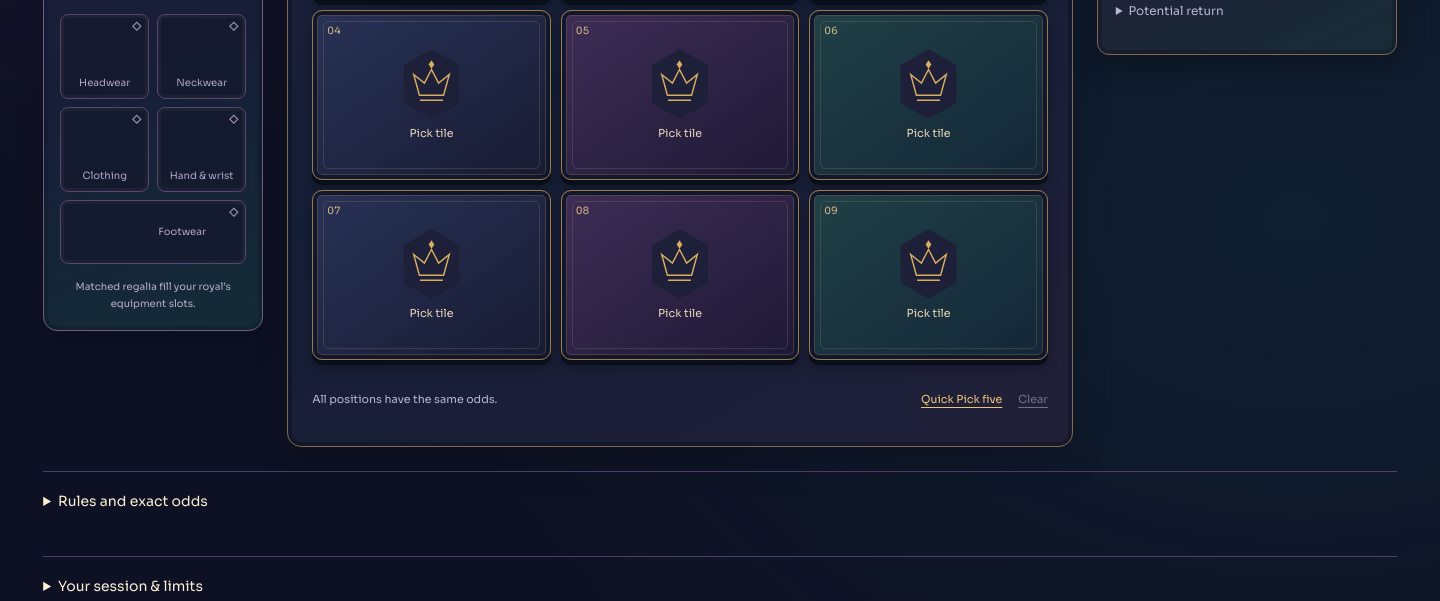
HeritageGameFlow › requires exactly five positions and Quick Pick returns five without changing the odds
(page scrolled)
Click the button "Quick Pick five": (962, 399) [921, 377, 1002, 421]
(page scrolled)
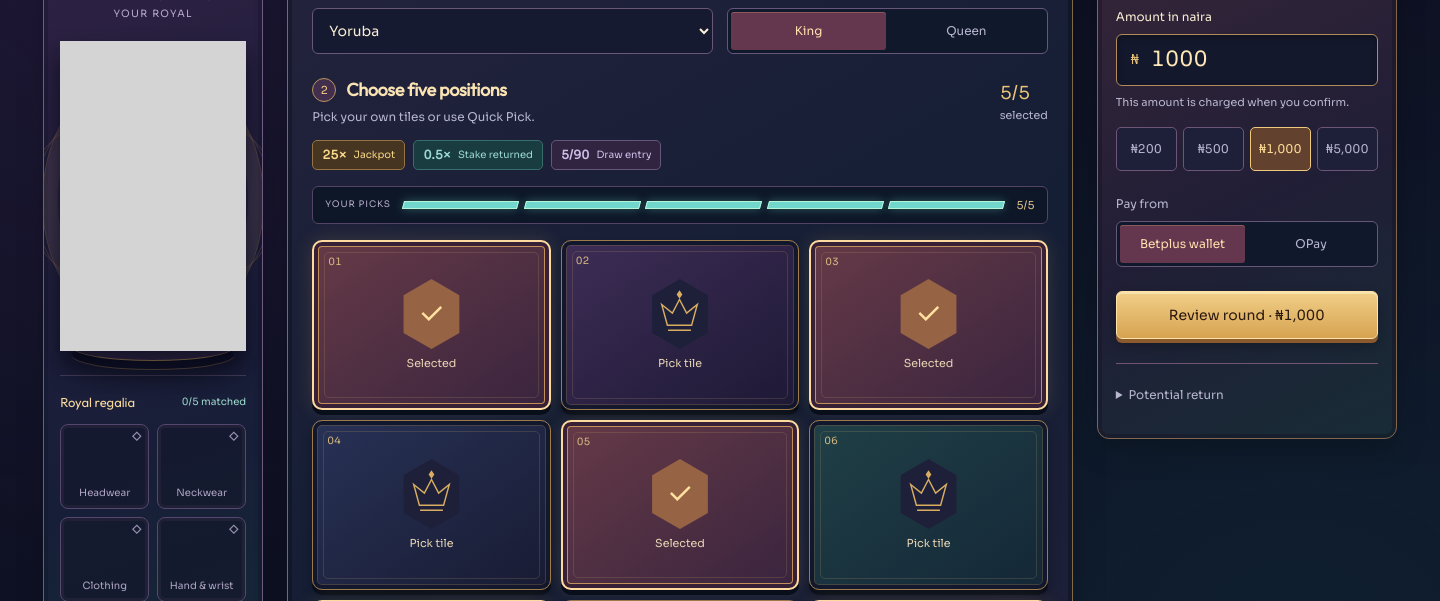
Click the button with aria-label "Position 2: not selected": (680, 325) [561, 240, 799, 410]
(page scrolled)
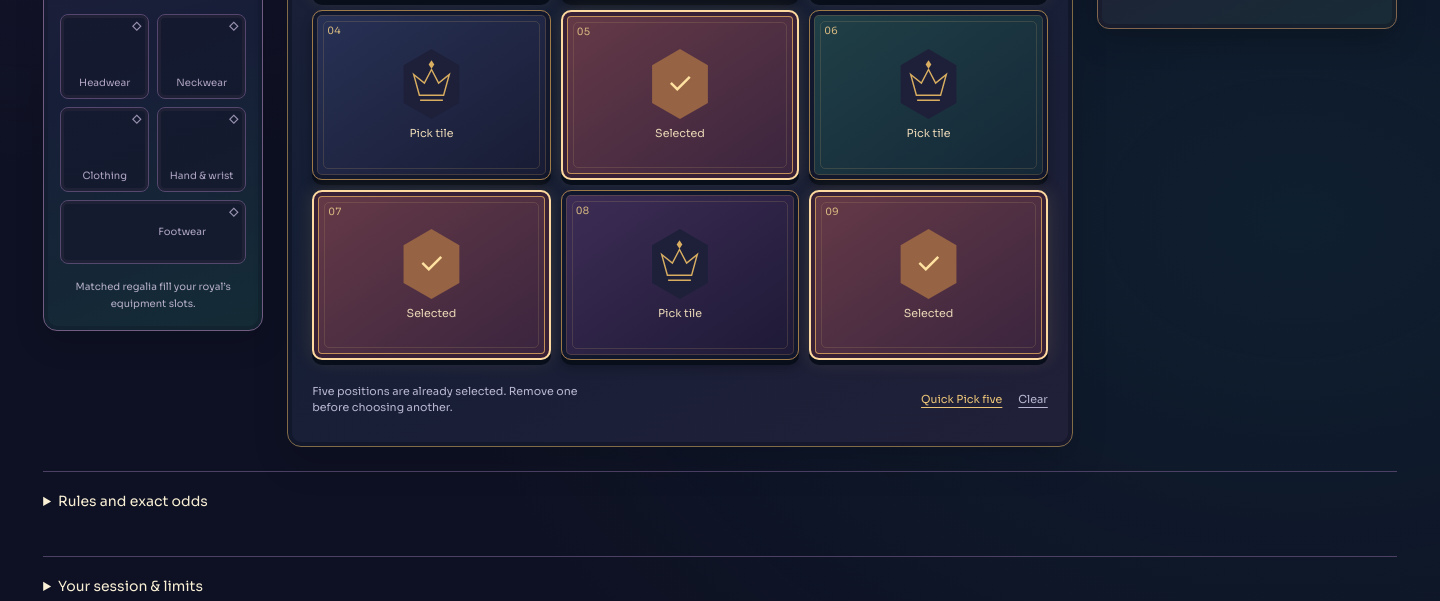
Check: the text "Five positions are already selected. Remove one before choosing another." is shown, box [312, 383, 606, 416]
